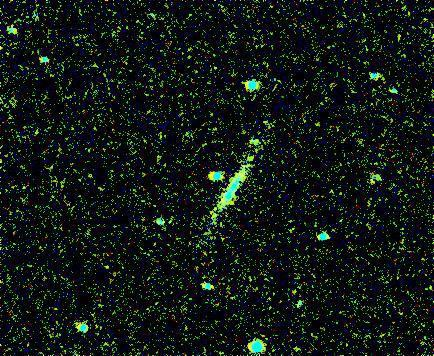star: (239, 134, 269, 164)
